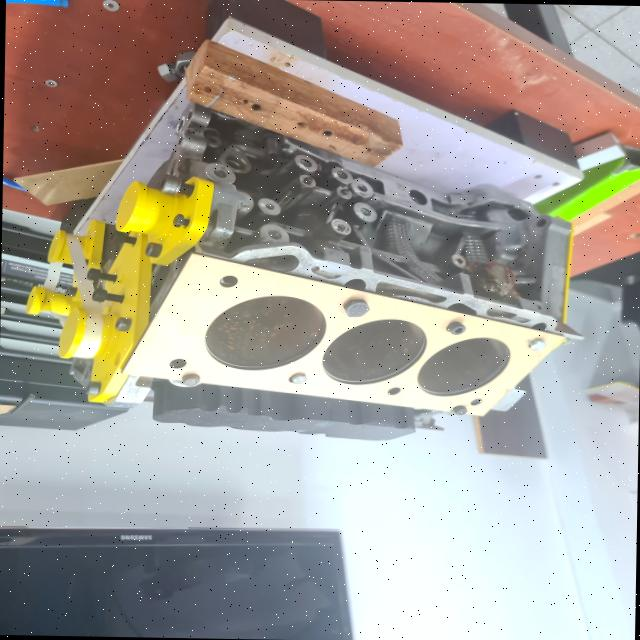tor_v1: (123, 252, 565, 415)
